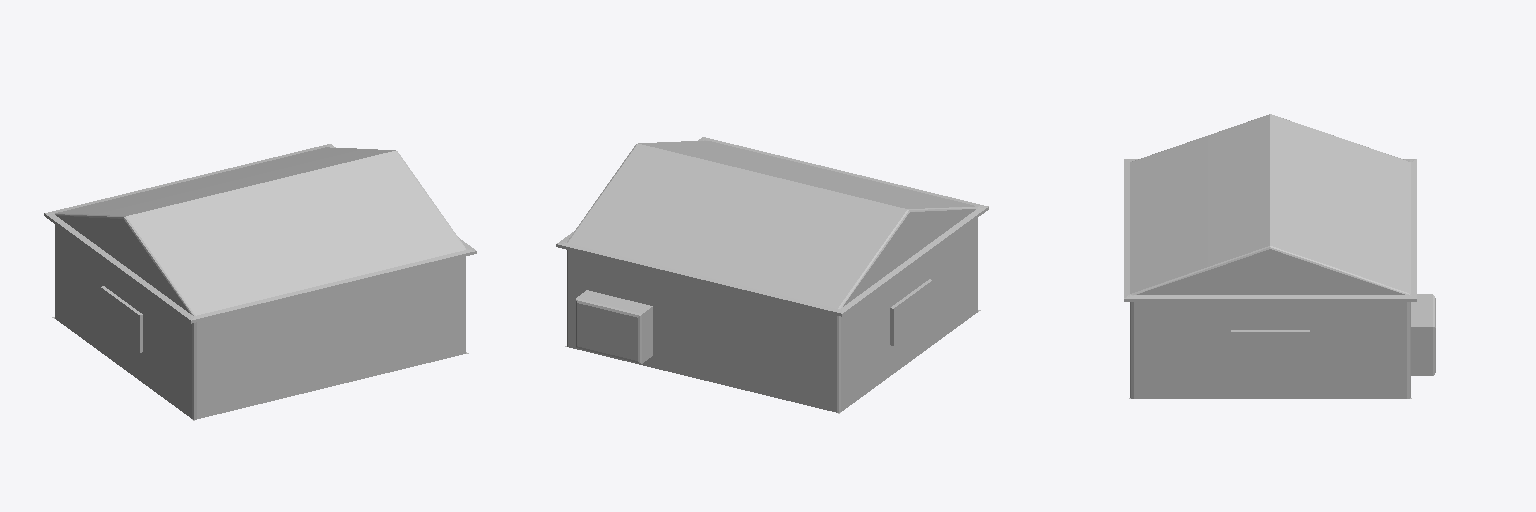
3 renders of one model, left to right at view 1: azimuth 30°, elevation 25°; view 2: azimuth 150°, elevation 25°; view 3: azimuth 270°, elevation 25°, orthographic.
Visible parts, largest first — view 1: Shop_Low_5; view 2: Shop_Low_5; view 3: Shop_Low_5.
Part boxes in pixels (x1,y1,x2,y2): Shop_Low_5: (44,144,476,420); Shop_Low_5: (556,137,988,413); Shop_Low_5: (1124,114,1435,398).
Bounding box in the file's own units: 9.75 × 4.96 × 9.2.